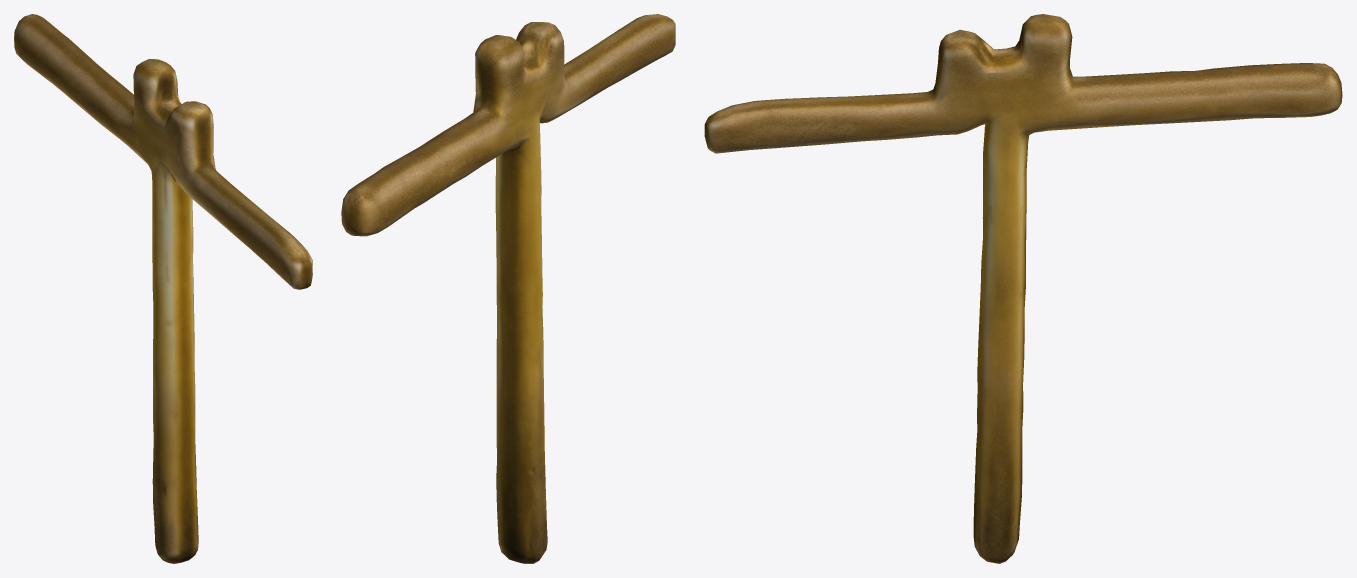
Rendered from blaze_rod_single_1500.glb.
The picture shows the model from 3 angles, left to right: view 1: azimuth 30°, elevation 25°; view 2: azimuth 150°, elevation 25°; view 3: azimuth 270°, elevation 25°; orthographic projection. The views are drawn at different scales.
Bounding box in the file's own units: 0.0695 × 0.8745 × 0.9313.
1 material, 1 textured.
